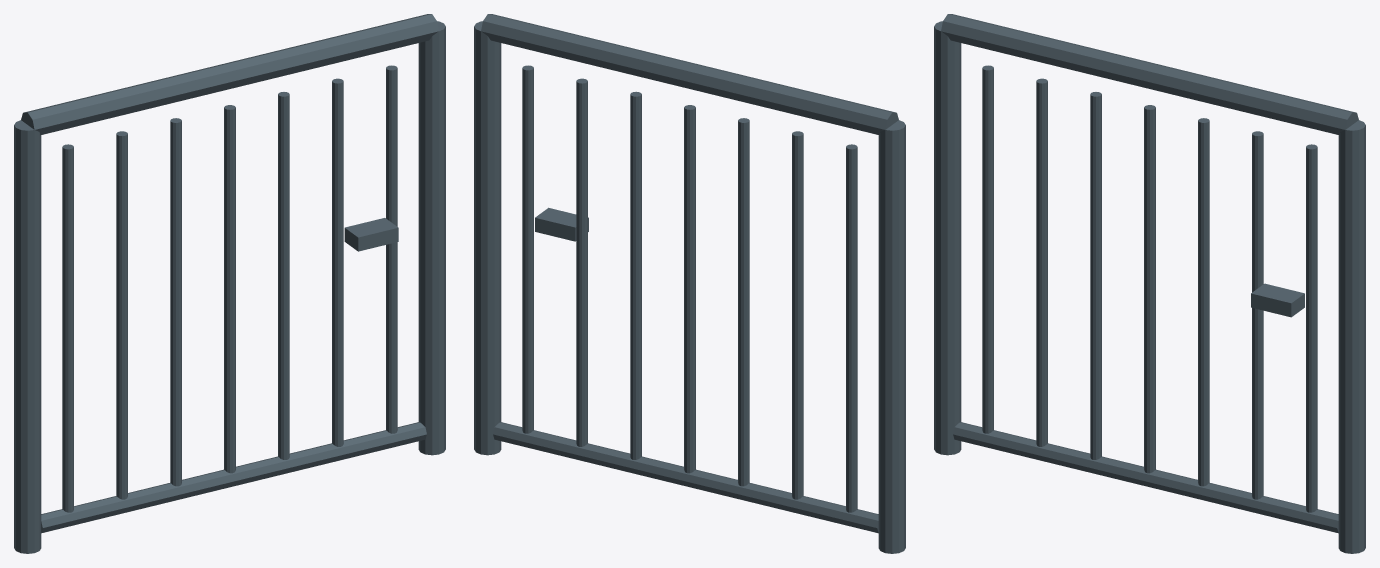
The model's file is pedestrian-gate-03104c3e.glb.
The picture shows the model from 3 angles, left to right: view 1: azimuth 30°, elevation 25°; view 2: azimuth 150°, elevation 25°; view 3: azimuth 330°, elevation 25°; orthographic projection.
Visible parts, largest first — view 1: pedestrian-gate; view 2: pedestrian-gate; view 3: pedestrian-gate.
Boxes of the visible parts, x1,y1,x2,y2 form: pedestrian-gate: (14, 14, 445, 553); pedestrian-gate: (474, 14, 905, 553); pedestrian-gate: (934, 14, 1365, 553).
Size of the model in its own units: 1.27 by 1.23 by 0.105.
